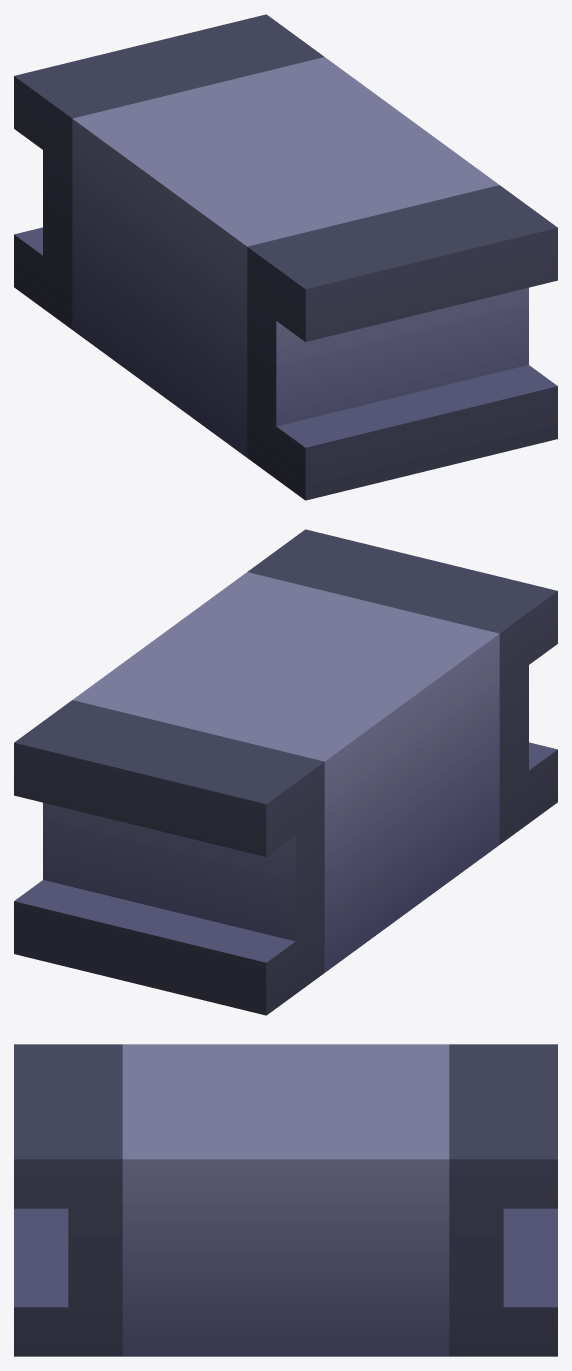
Rendered from kenney-conveyor-conveyor-stripe-part-middle.glb.
3 renders of one model, top to bottom at view 1: azimuth 30°, elevation 25°; view 2: azimuth 150°, elevation 25°; view 3: azimuth 270°, elevation 25°, orthographic. The views are drawn at different scales.
Visible parts, largest first — view 1: conveyor-stripe-part-middle; view 2: conveyor-stripe-part-middle; view 3: conveyor-stripe-part-middle.
Part boxes in pixels (x1,y1,x2,y2): conveyor-stripe-part-middle: [14, 14, 557, 500]; conveyor-stripe-part-middle: [14, 529, 557, 1015]; conveyor-stripe-part-middle: [14, 1044, 557, 1356].
Bounding box in the file's own units: 0.5001 × 0.3999 × 1.
1 material, 1 textured.
